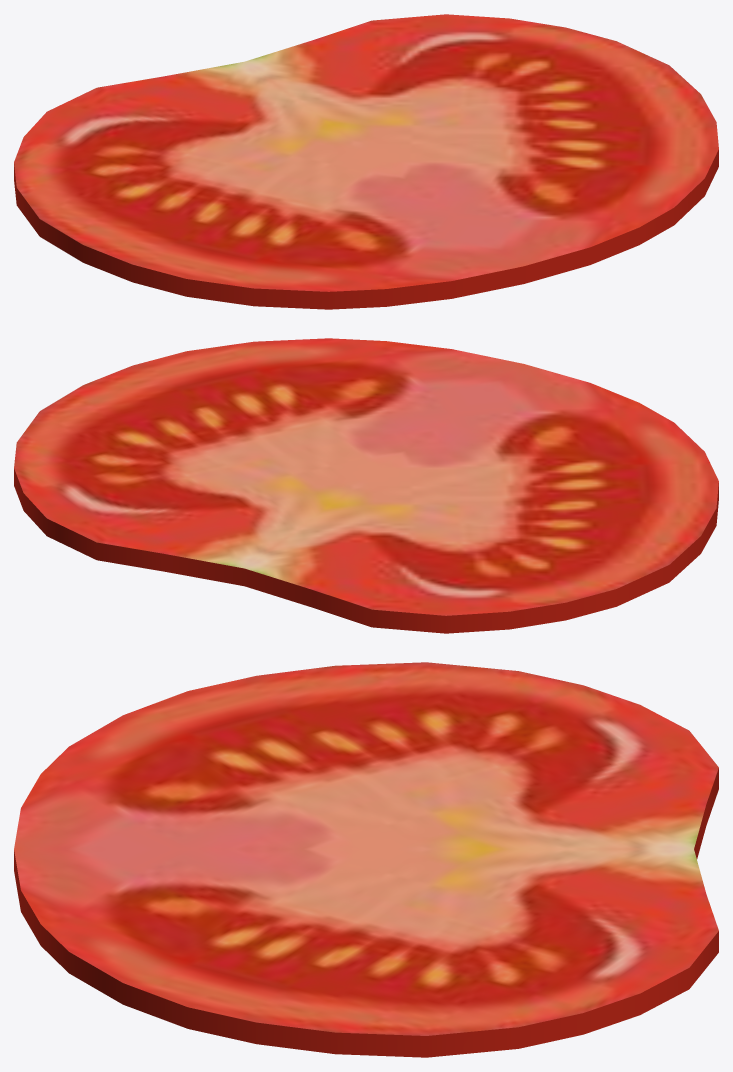
Rendered from tomat.fbx.
3 renders of one model, top to bottom at view 1: azimuth 30°, elevation 25°; view 2: azimuth 150°, elevation 25°; view 3: azimuth 270°, elevation 25°, orthographic. The views are drawn at different scales.
Visible parts, largest first — view 1: Circle; view 2: Circle; view 3: Circle.
Boxes of the visible parts, bbox=[...] form: Circle: bbox=[14, 14, 718, 309]; Circle: bbox=[14, 338, 718, 633]; Circle: bbox=[14, 662, 718, 1057].
Bounding box in the file's own units: 201 × 5.43 × 160.
1 material, 1 textured.
